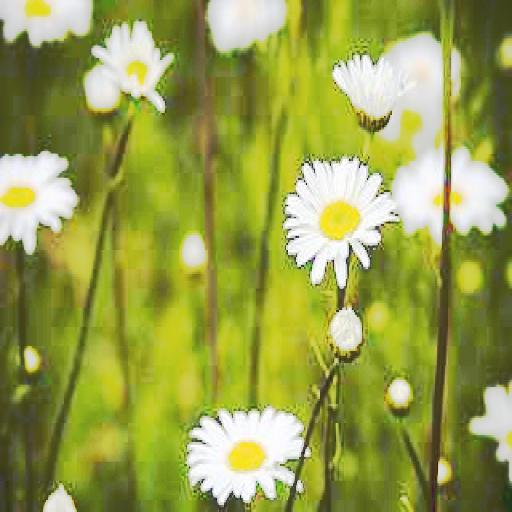daisy: (286, 158, 397, 276), (190, 406, 310, 507), (396, 147, 506, 245), (96, 24, 173, 108), (334, 53, 413, 125)
